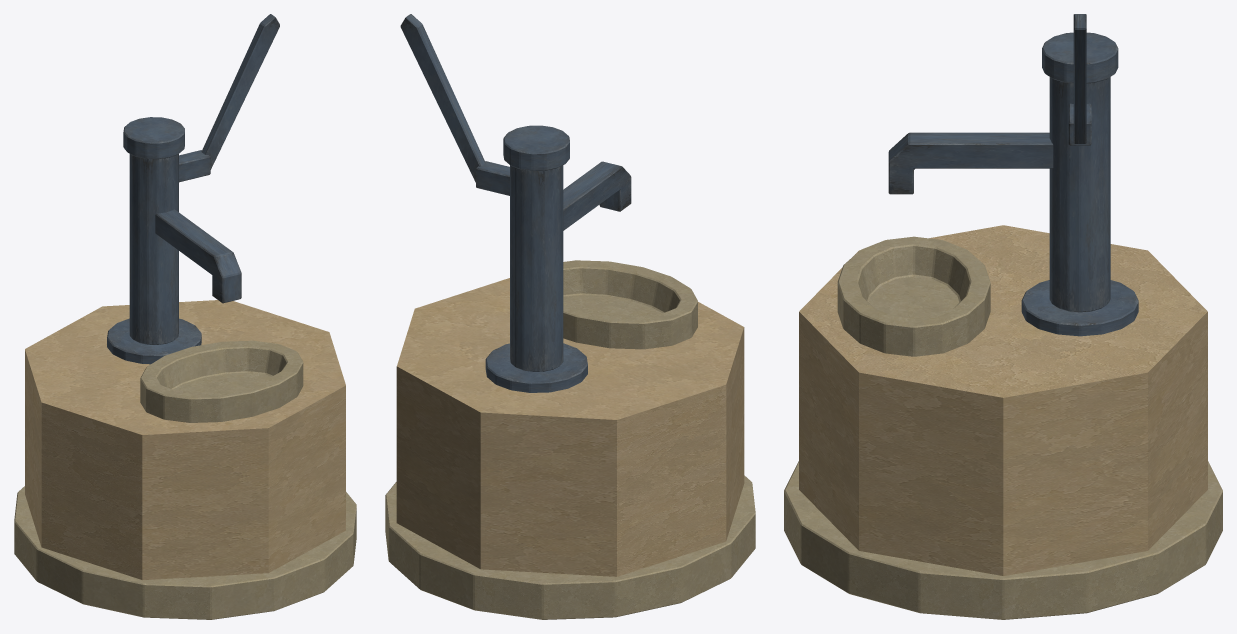
The model's file is env-well-a.glb.
3 views of the same model, side by side, from view 1: azimuth 30°, elevation 25°; view 2: azimuth 150°, elevation 25°; view 3: azimuth 270°, elevation 25° (orthographic). The views are drawn at different scales.
Parts seen in each view (by area): view 1: COL_well, VIS_plaster, VIS_metal; view 2: COL_well, VIS_plaster, VIS_metal; view 3: COL_well, VIS_plaster, VIS_metal.
Part boxes in pixels (x1,y1,x2,y2): COL_well: [25, 300, 345, 580]; VIS_plaster: [14, 340, 356, 619]; VIS_metal: [107, 14, 279, 364]; COL_well: [396, 278, 744, 576]; VIS_plaster: [385, 260, 755, 619]; VIS_metal: [400, 14, 631, 392]; COL_well: [799, 225, 1207, 575]; VIS_plaster: [784, 236, 1222, 619]; VIS_metal: [888, 14, 1138, 336].
Size of the model in its own units: 1.65 by 2.54 by 1.72.
Materials: 2 (2 with a texture image).
